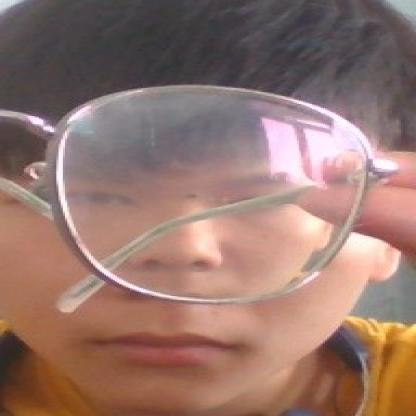not trash: (60, 89, 373, 298)
